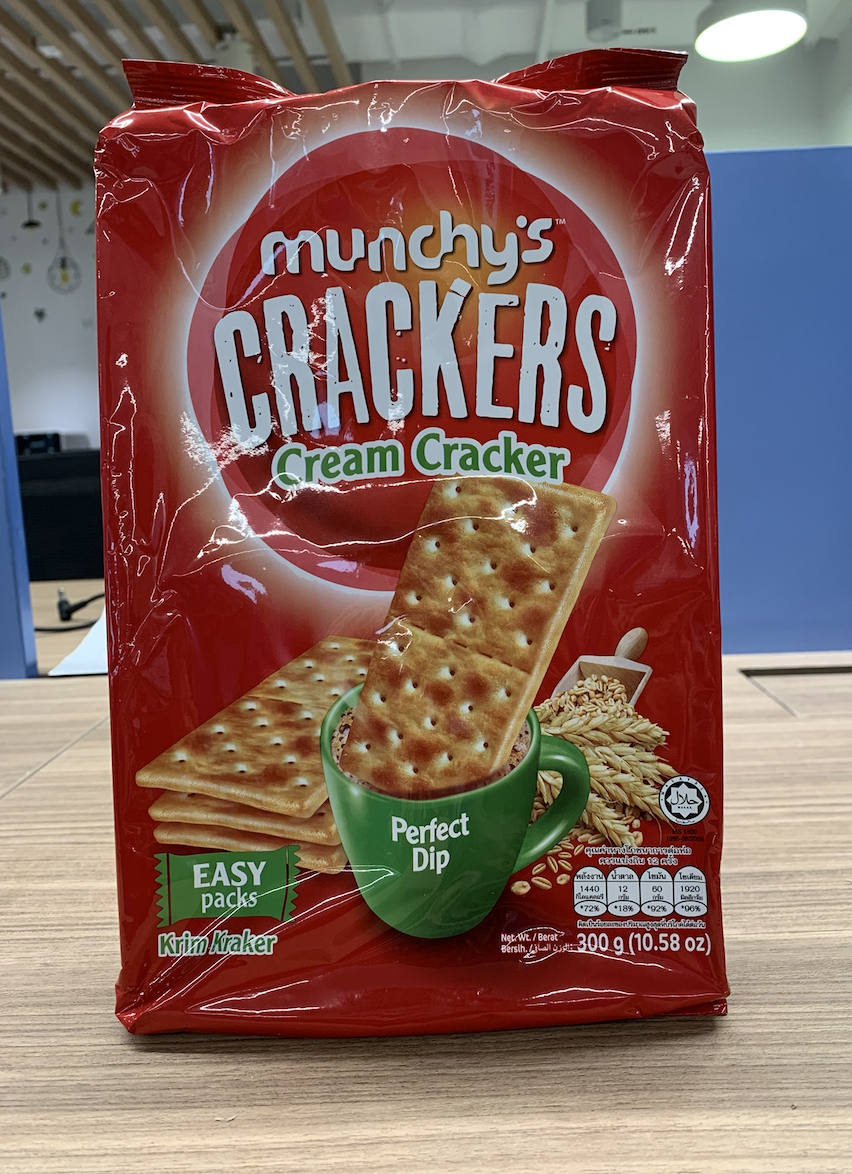crackers_300g-399g: (117, 135, 723, 988)
